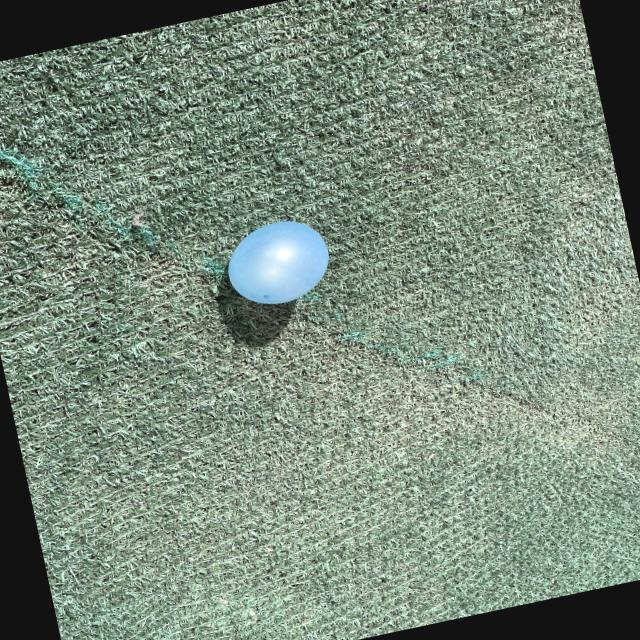balloon: (228, 221, 328, 304)
